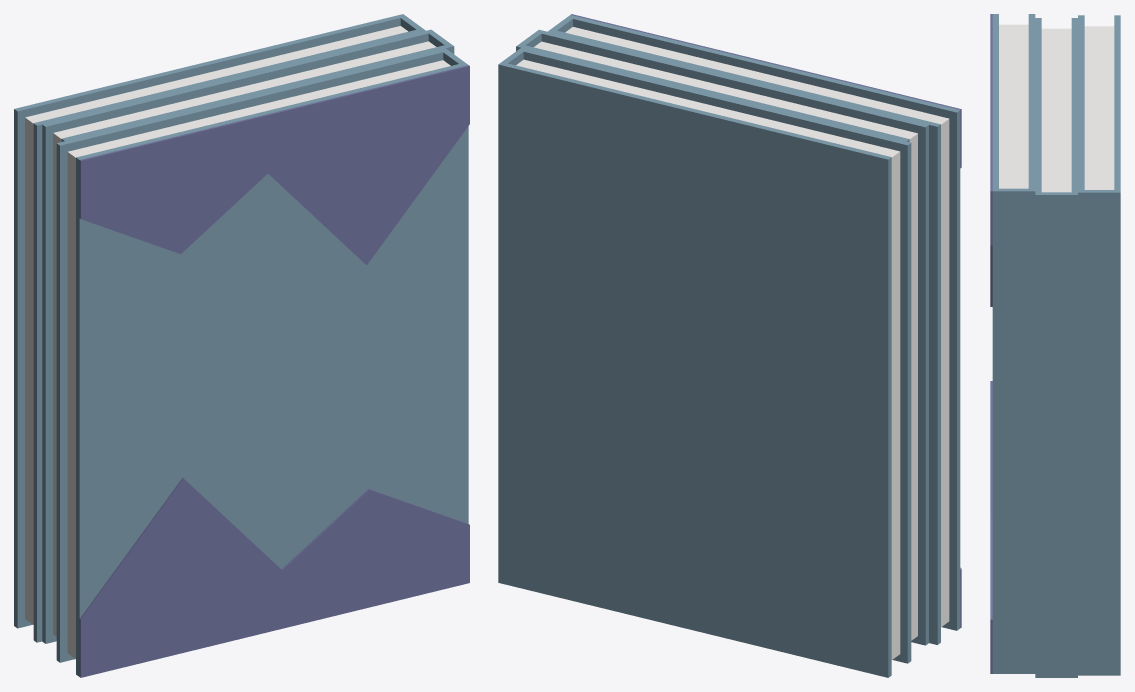
The model's file is Magazines_9.fbx.
3 views of the same model, side by side, from view 1: azimuth 30°, elevation 25°; view 2: azimuth 150°, elevation 25°; view 3: azimuth 270°, elevation 25° (orthographic). The views are drawn at different scales.
Parts seen in each view (by area): view 1: Magazines_9; view 2: Magazines_9; view 3: Magazines_9.
Part boxes in pixels (x1,y1,x2,y2): Magazines_9: (14, 14, 469, 677); Magazines_9: (498, 14, 961, 677); Magazines_9: (990, 14, 1120, 677).
Size of the model in its own units: 32.28 by 9.83 by 40.12.
